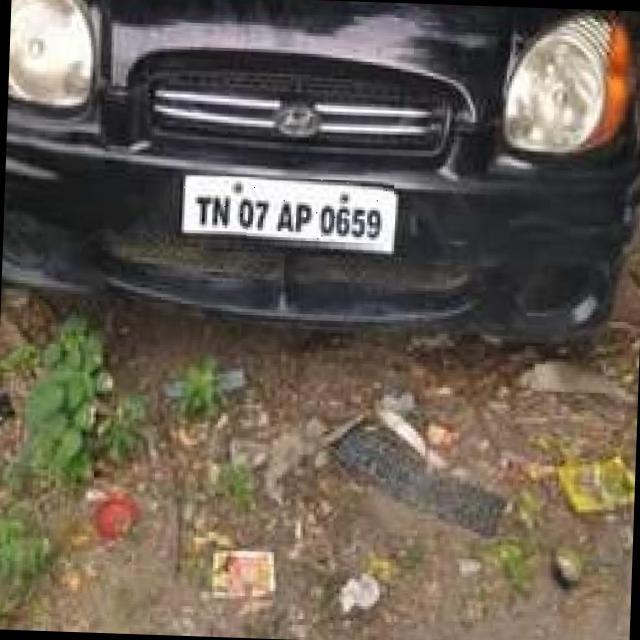Plate: (179, 176, 395, 249)
